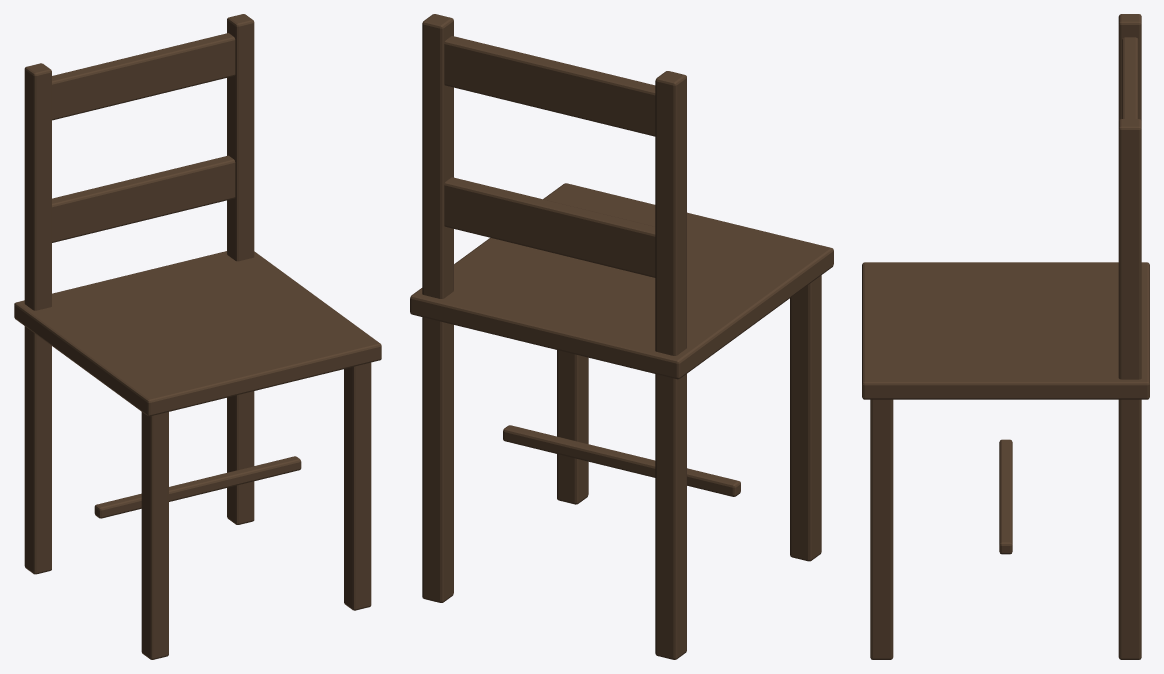
The model's file is PROP_Chair_Wood_Historic.glb.
The picture shows the model from 3 angles, left to right: view 1: azimuth 30°, elevation 25°; view 2: azimuth 150°, elevation 25°; view 3: azimuth 270°, elevation 25°; orthographic projection. The views are drawn at different scales.
Parts seen in each view (by area): view 1: PROP_Chair_Wood_Historic_Mesh; view 2: PROP_Chair_Wood_Historic_Mesh; view 3: PROP_Chair_Wood_Historic_Mesh.
Boxes of the visible parts, x1=… form: PROP_Chair_Wood_Historic_Mesh: x1=14, y1=14, x2=381, y2=659; PROP_Chair_Wood_Historic_Mesh: x1=410, y1=14, x2=833, y2=659; PROP_Chair_Wood_Historic_Mesh: x1=862, y1=14, x2=1149, y2=659.
Size of what is drawn, in the model's own units: 0.44 by 0.9 by 0.44.
